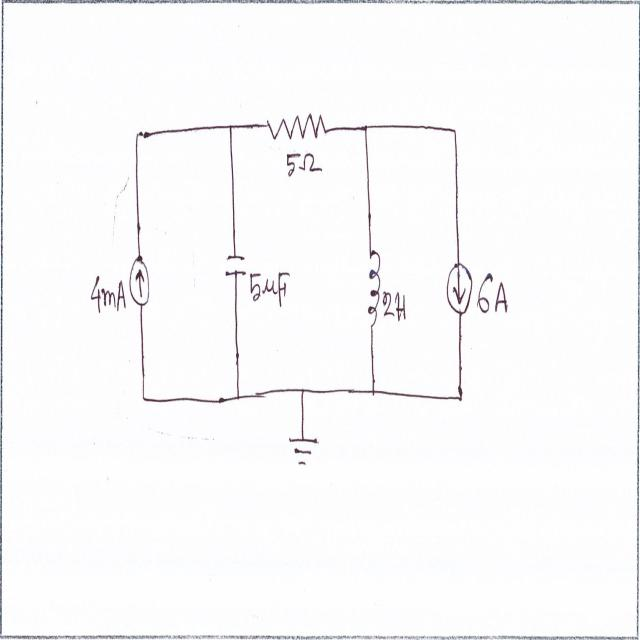capacitor: (221, 249, 251, 281)
current_source: (445, 252, 474, 316), (128, 251, 151, 315)
ground: (286, 431, 318, 477)
inductor: (366, 244, 382, 341)
resistor: (264, 110, 328, 148)
